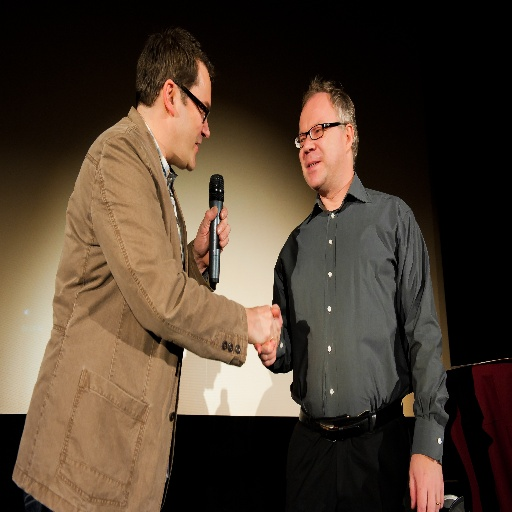hand: (192, 204, 229, 267), (407, 453, 444, 511), (252, 302, 282, 367)
